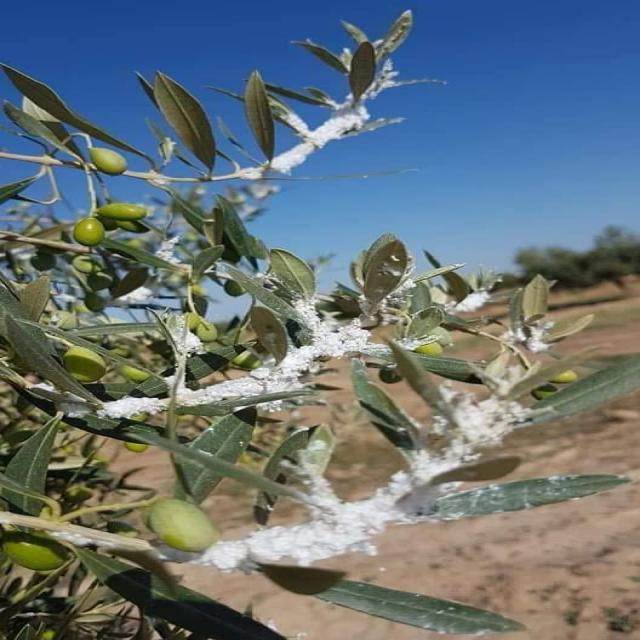Healthy: (148, 498, 218, 552), (0, 531, 69, 571), (73, 217, 104, 246), (98, 203, 145, 221)
Psyllid: (194, 386, 519, 571), (269, 11, 440, 173), (178, 299, 385, 406), (101, 400, 160, 417)
